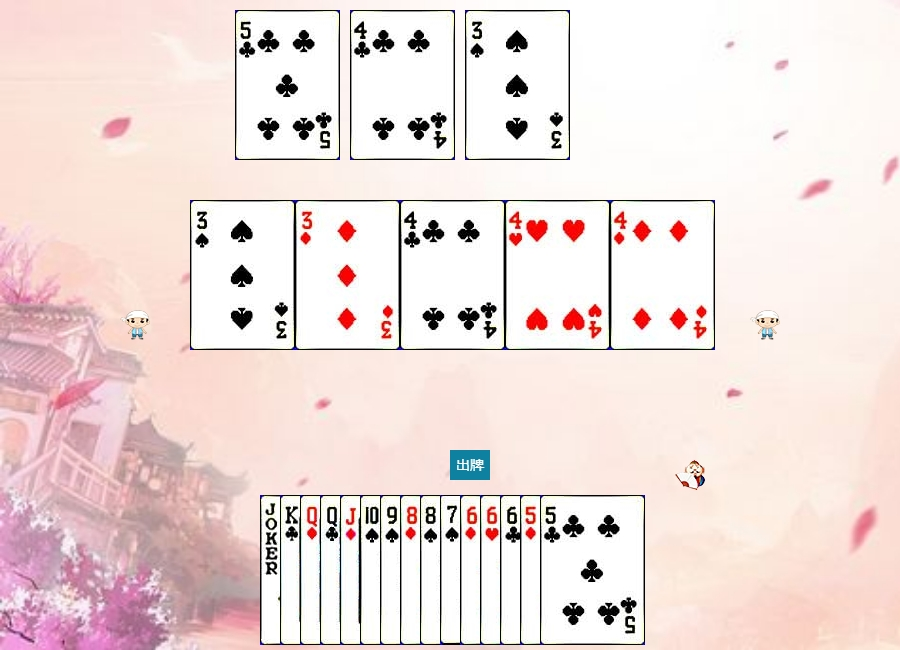10~4: (360, 495, 465, 645)
11~1: (340, 495, 445, 645)
12~1: (300, 495, 405, 645)
12~2: (320, 495, 425, 645)
13~2: (280, 495, 385, 645)
17~3: (260, 495, 365, 645)
3~1: (295, 200, 400, 350)
3~4: (465, 10, 570, 160), (190, 200, 295, 350)
4~1: (610, 200, 715, 350)
4~2: (350, 10, 455, 160), (400, 200, 505, 350)
4~3: (505, 200, 610, 350)
5~1: (520, 495, 625, 645)
5~2: (235, 10, 340, 160), (540, 495, 645, 645)
6~1: (460, 495, 565, 645)
6~2: (500, 495, 605, 645)
6~3: (480, 495, 585, 645)
7~4: (440, 495, 545, 645)
8~1: (400, 495, 505, 645)
8~4: (420, 495, 525, 645)
9~4: (380, 495, 485, 645)
